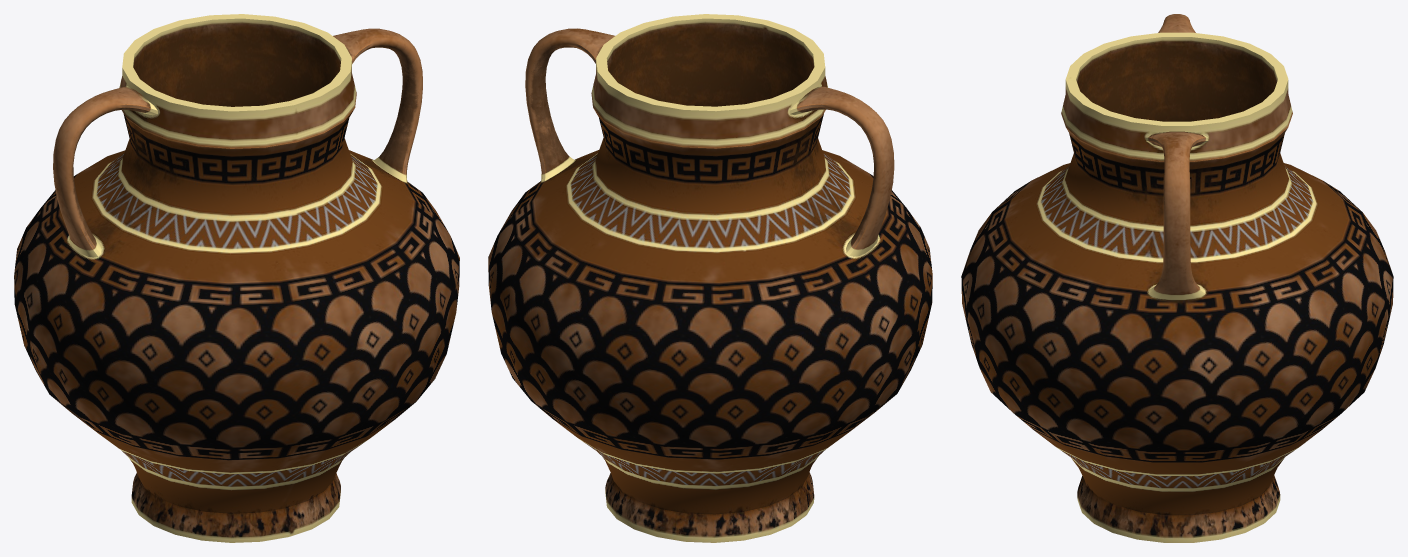
Rendered from DecoratedVase.glb.
3 renders of one model, left to right at view 1: azimuth 30°, elevation 25°; view 2: azimuth 150°, elevation 25°; view 3: azimuth 270°, elevation 25°, orthographic. The views are drawn at different scales.
Visible parts, largest first — view 1: Vase; view 2: Vase; view 3: Vase.
Part boxes in pixels (x1=…): Vase: x1=14, y1=14, x2=459, y2=542; Vase: x1=488, y1=14, x2=932, y2=542; Vase: x1=961, y1=14, x2=1393, y2=542.
Bounding box in the file's own units: 81.99 × 89.12 × 82.82.
Materials: 1 (1 with a texture image).
